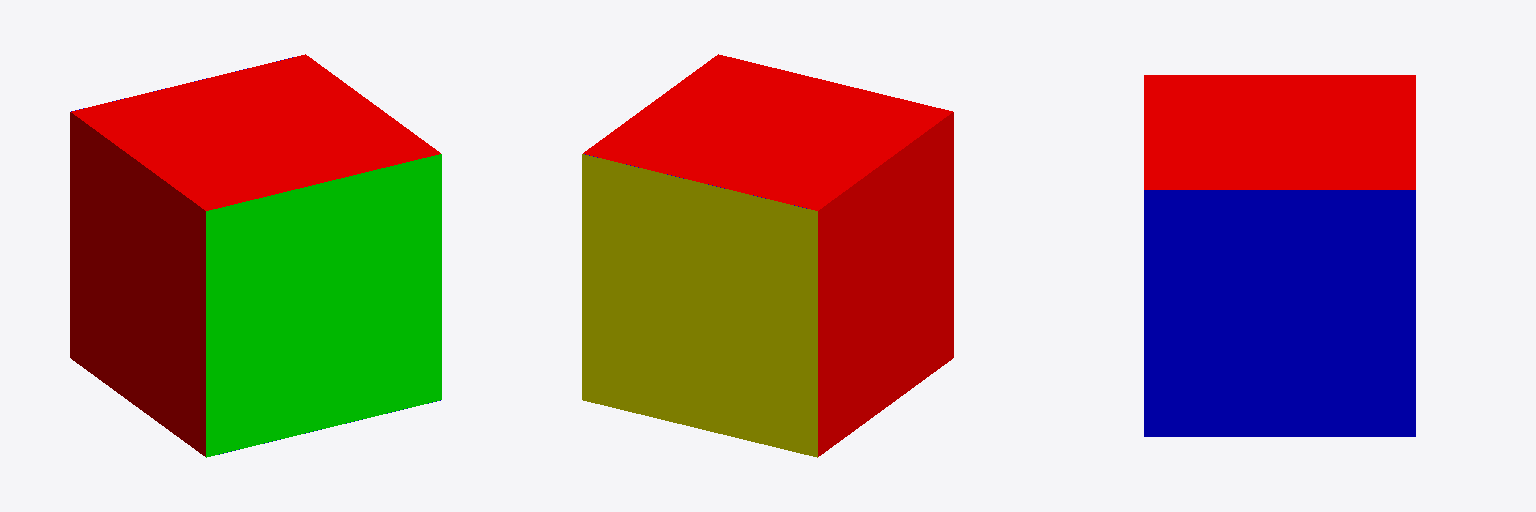
3 renders of one model, left to right at view 1: azimuth 30°, elevation 25°; view 2: azimuth 150°, elevation 25°; view 3: azimuth 270°, elevation 25°, orthographic.
Visible parts, largest first — view 1: Cube; view 2: Cube; view 3: Cube.
Boxes of the visible parts, x1=… form: Cube: x1=70, y1=54, x2=441, y2=457; Cube: x1=582, y1=54, x2=953, y2=457; Cube: x1=1144, y1=75, x2=1415, y2=436.
Size of the model in its own units: 2 by 2 by 2.
Materials: 1 (1 with a texture image).